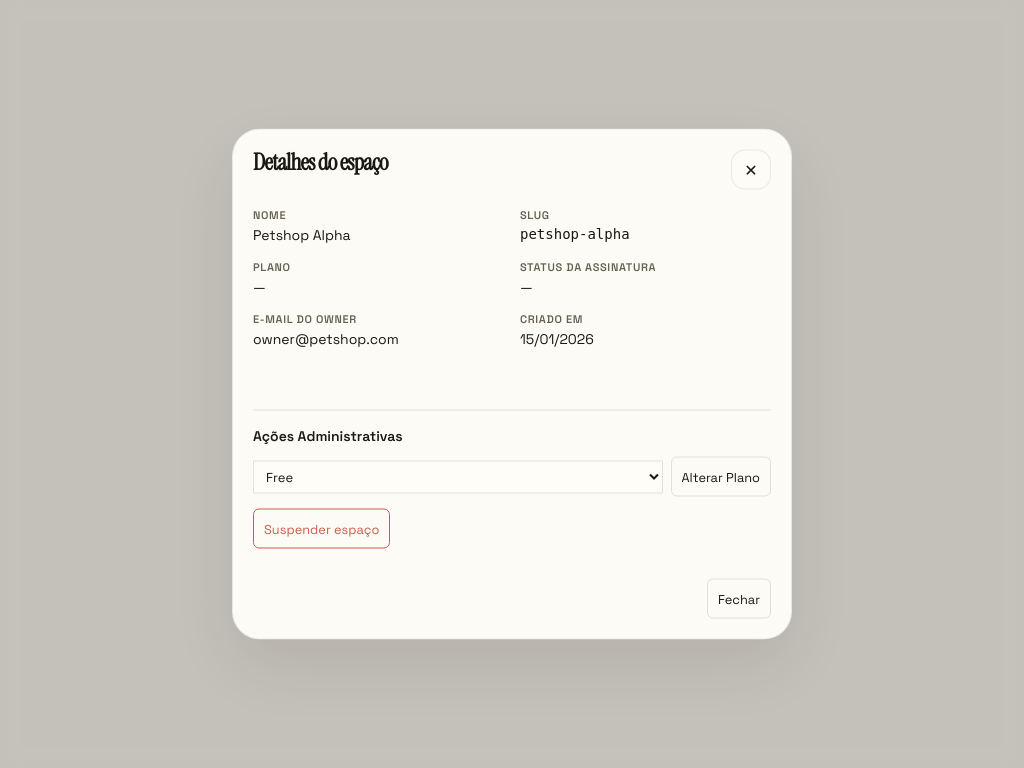
TenantDetailModal › exibe erro inline quando updateTenantPlan falha
The width and height of the screenshot is (1024, 768).
Click the button "Alterar Plano" at point(721, 476), box [670,456,771,496]
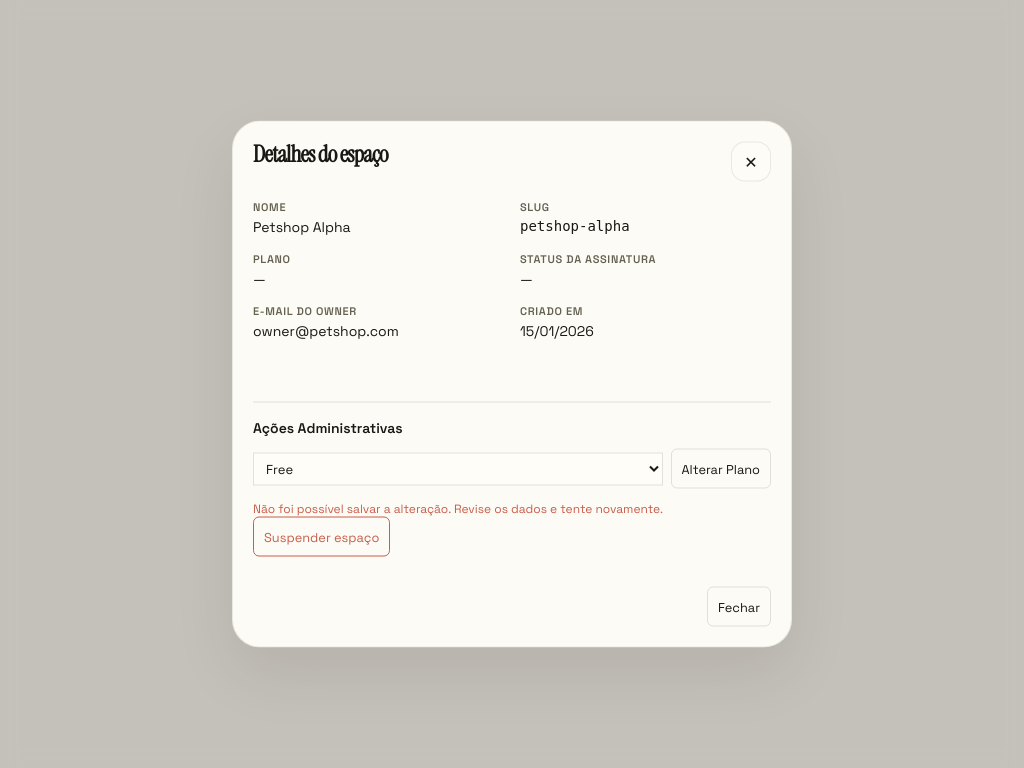
Expected: the text "Não foi possível salvar a alteração" is shown, [253,500,663,516]
